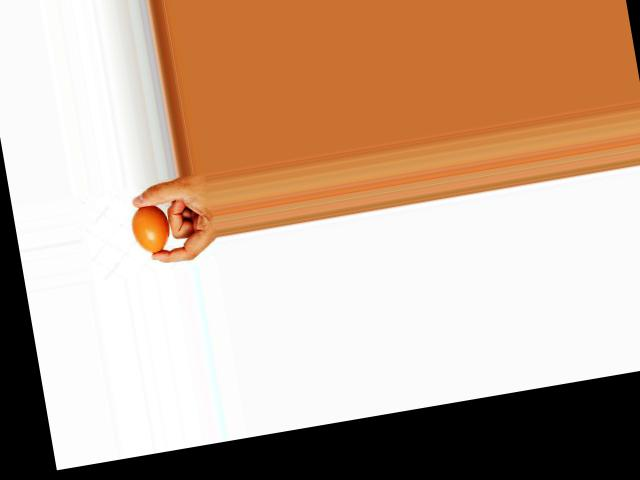egg: (128, 202, 173, 256)
